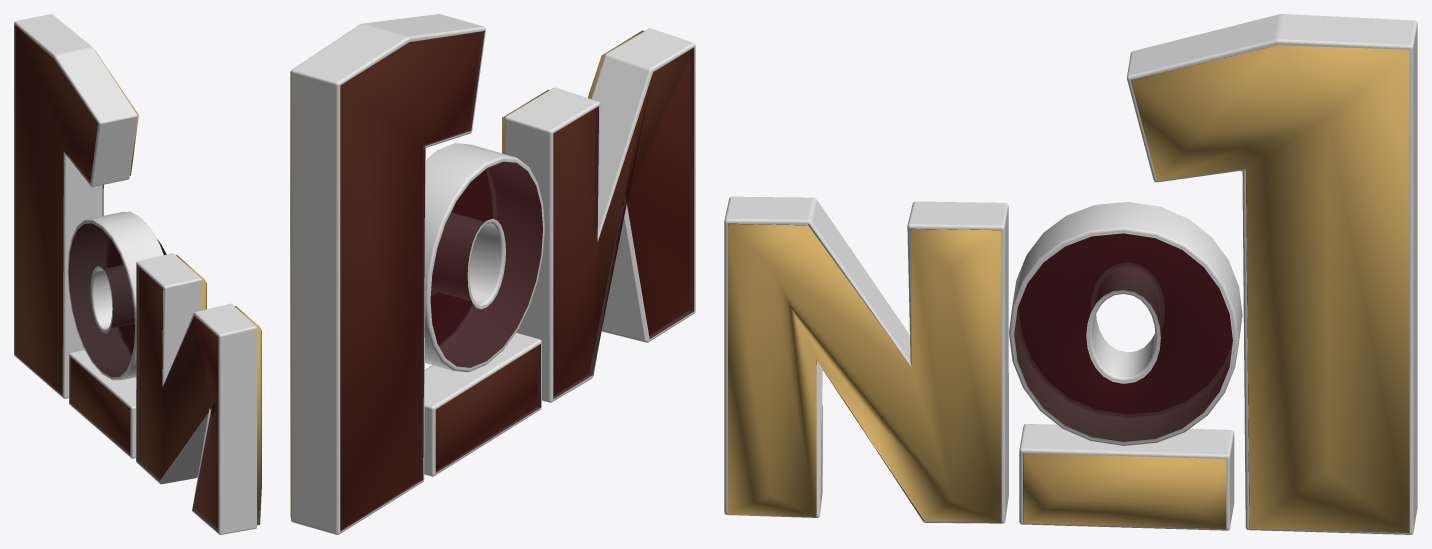
File: n1-red.glb
3 renders of one model, left to right at view 1: azimuth 30°, elevation 25°; view 2: azimuth 150°, elevation 25°; view 3: azimuth 270°, elevation 25°, orthographic. The views are drawn at different scales.
Parts seen in each view (by area): view 1: gold outside.001, gold outside.003, gold outside.004; view 2: gold outside.001, gold outside.003, gold outside.004; view 3: gold outside.003, gold outside.004, gold outside.001.
Part boxes in pixels (x1=…): gold outside.001: x1=14, y1=14, x2=256, y2=534; gold outside.003: x1=16, y1=26, x2=261, y2=527; gold outside.004: x1=67, y1=211, x2=166, y2=380; gold outside.001: x1=291, y1=14, x2=695, y2=534; gold outside.003: x1=290, y1=30, x2=689, y2=529; gold outside.004: x1=425, y1=143, x2=544, y2=372; gold outside.003: x1=728, y1=45, x2=1409, y2=532; gold outside.004: x1=1009, y1=202, x2=1242, y2=445; gold outside.001: x1=724, y1=14, x2=1417, y2=534.
Size of the model in its own units: 1.06 by 4.33 by 5.5.
